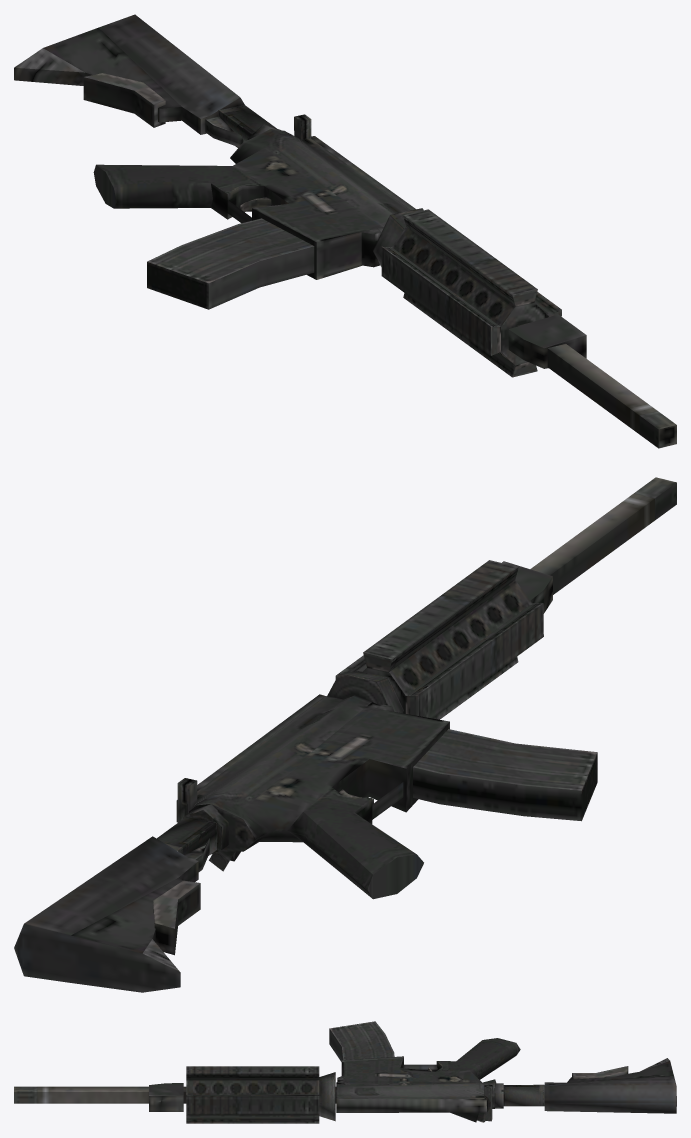
File: Pickup_WeaponBq04.glb
3 renders of one model, top to bottom at view 1: azimuth 30°, elevation 25°; view 2: azimuth 150°, elevation 25°; view 3: azimuth 270°, elevation 25°, orthographic. The views are drawn at different scales.
Visible parts, largest first — view 1: pk_weapon_bq04; view 2: pk_weapon_bq04; view 3: pk_weapon_bq04.
Boxes of the visible parts, box(x1,y1,x2,y2) form: pk_weapon_bq04: box(14, 14, 676, 448); pk_weapon_bq04: box(14, 477, 676, 992); pk_weapon_bq04: box(14, 1021, 676, 1123).
Size of the model in its own units: 1.24 by 0.4015 by 4.52.
1 material, 1 textured.
